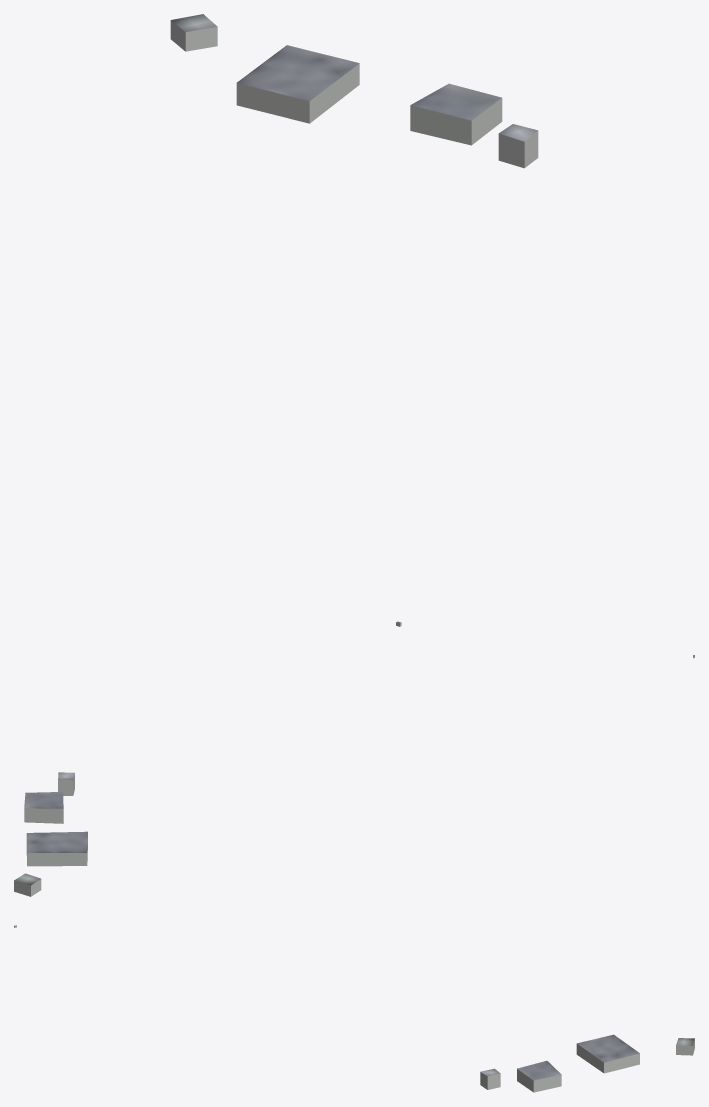
The model's file is LFSB_2_-1.glb.
The picture shows the model from 3 angles, top to bottom: view 1: azimuth 30°, elevation 25°; view 2: azimuth 150°, elevation 25°; view 3: azimuth 270°, elevation 25°; orthographic projection. The views are drawn at different scales.
Parts seen in each view (by area): view 1: building_BATIMENT0000000048079586, building_BATIMENT0000000048079589, building_BATIMENT0000000048079587, building_BATIMENT0000000048079588; view 2: building_BATIMENT0000000048079586, building_BATIMENT0000000048079589, building_BATIMENT0000000048079588, building_BATIMENT0000000048079587; view 3: building_BATIMENT0000000048079586, building_BATIMENT0000000048079589, building_BATIMENT0000000048079587, building_BATIMENT0000000048079588.
Boxes of the visible parts, x1,y1,x2,y2 form: building_BATIMENT0000000048079586: [236, 45, 359, 123]; building_BATIMENT0000000048079589: [410, 83, 502, 145]; building_BATIMENT0000000048079587: [498, 124, 538, 168]; building_BATIMENT0000000048079588: [170, 14, 217, 51]; building_BATIMENT0000000048079586: [26, 831, 87, 866]; building_BATIMENT0000000048079589: [24, 792, 63, 823]; building_BATIMENT0000000048079588: [14, 873, 41, 896]; building_BATIMENT0000000048079587: [58, 772, 74, 795]; building_BATIMENT0000000048079586: [576, 1034, 639, 1073]; building_BATIMENT0000000048079589: [517, 1060, 561, 1092]; building_BATIMENT0000000048079587: [480, 1068, 500, 1089]; building_BATIMENT0000000048079588: [676, 1038, 694, 1055].
Size of the model in its own units: 221 by 10.2 by 417.
Materials: 2 (1 with a texture image).
